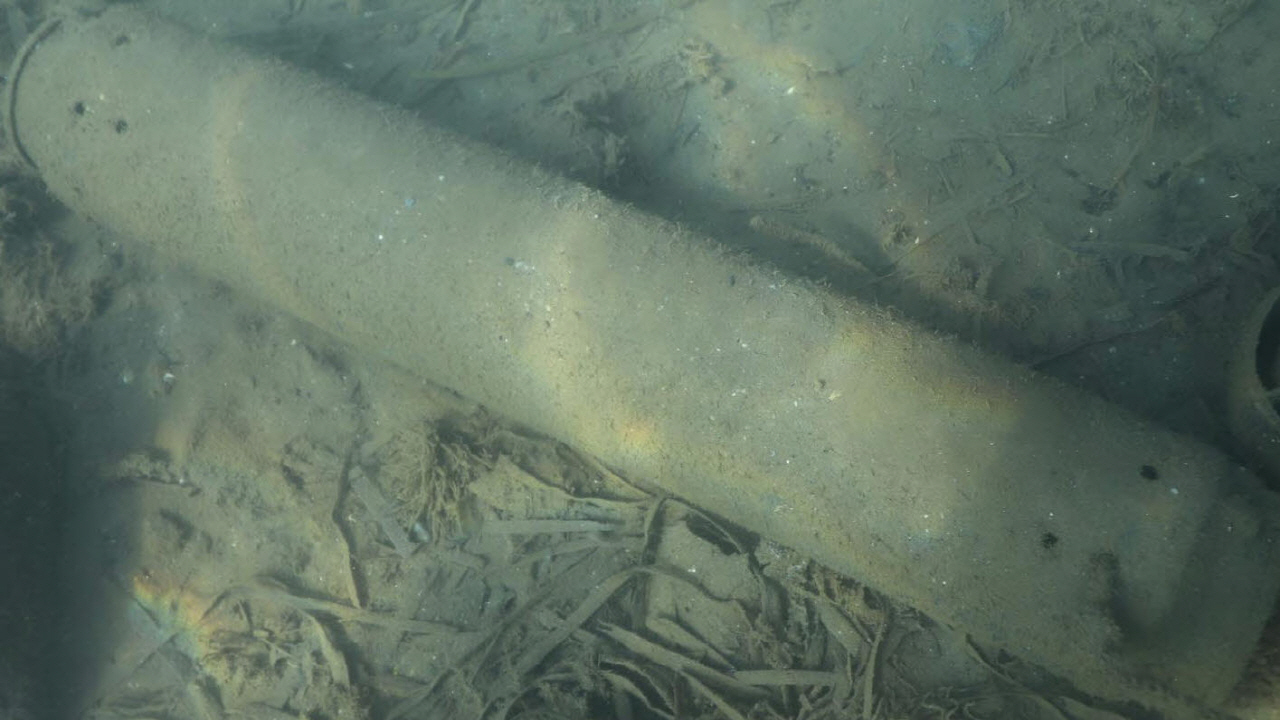eel fish trap: (3, 8, 1280, 720)
